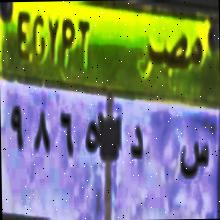5: (80, 114, 102, 160)
6: (58, 107, 76, 163)
8: (32, 105, 52, 159)
9: (8, 97, 26, 156)
daal: (123, 115, 146, 166)
seen: (178, 132, 212, 186)
